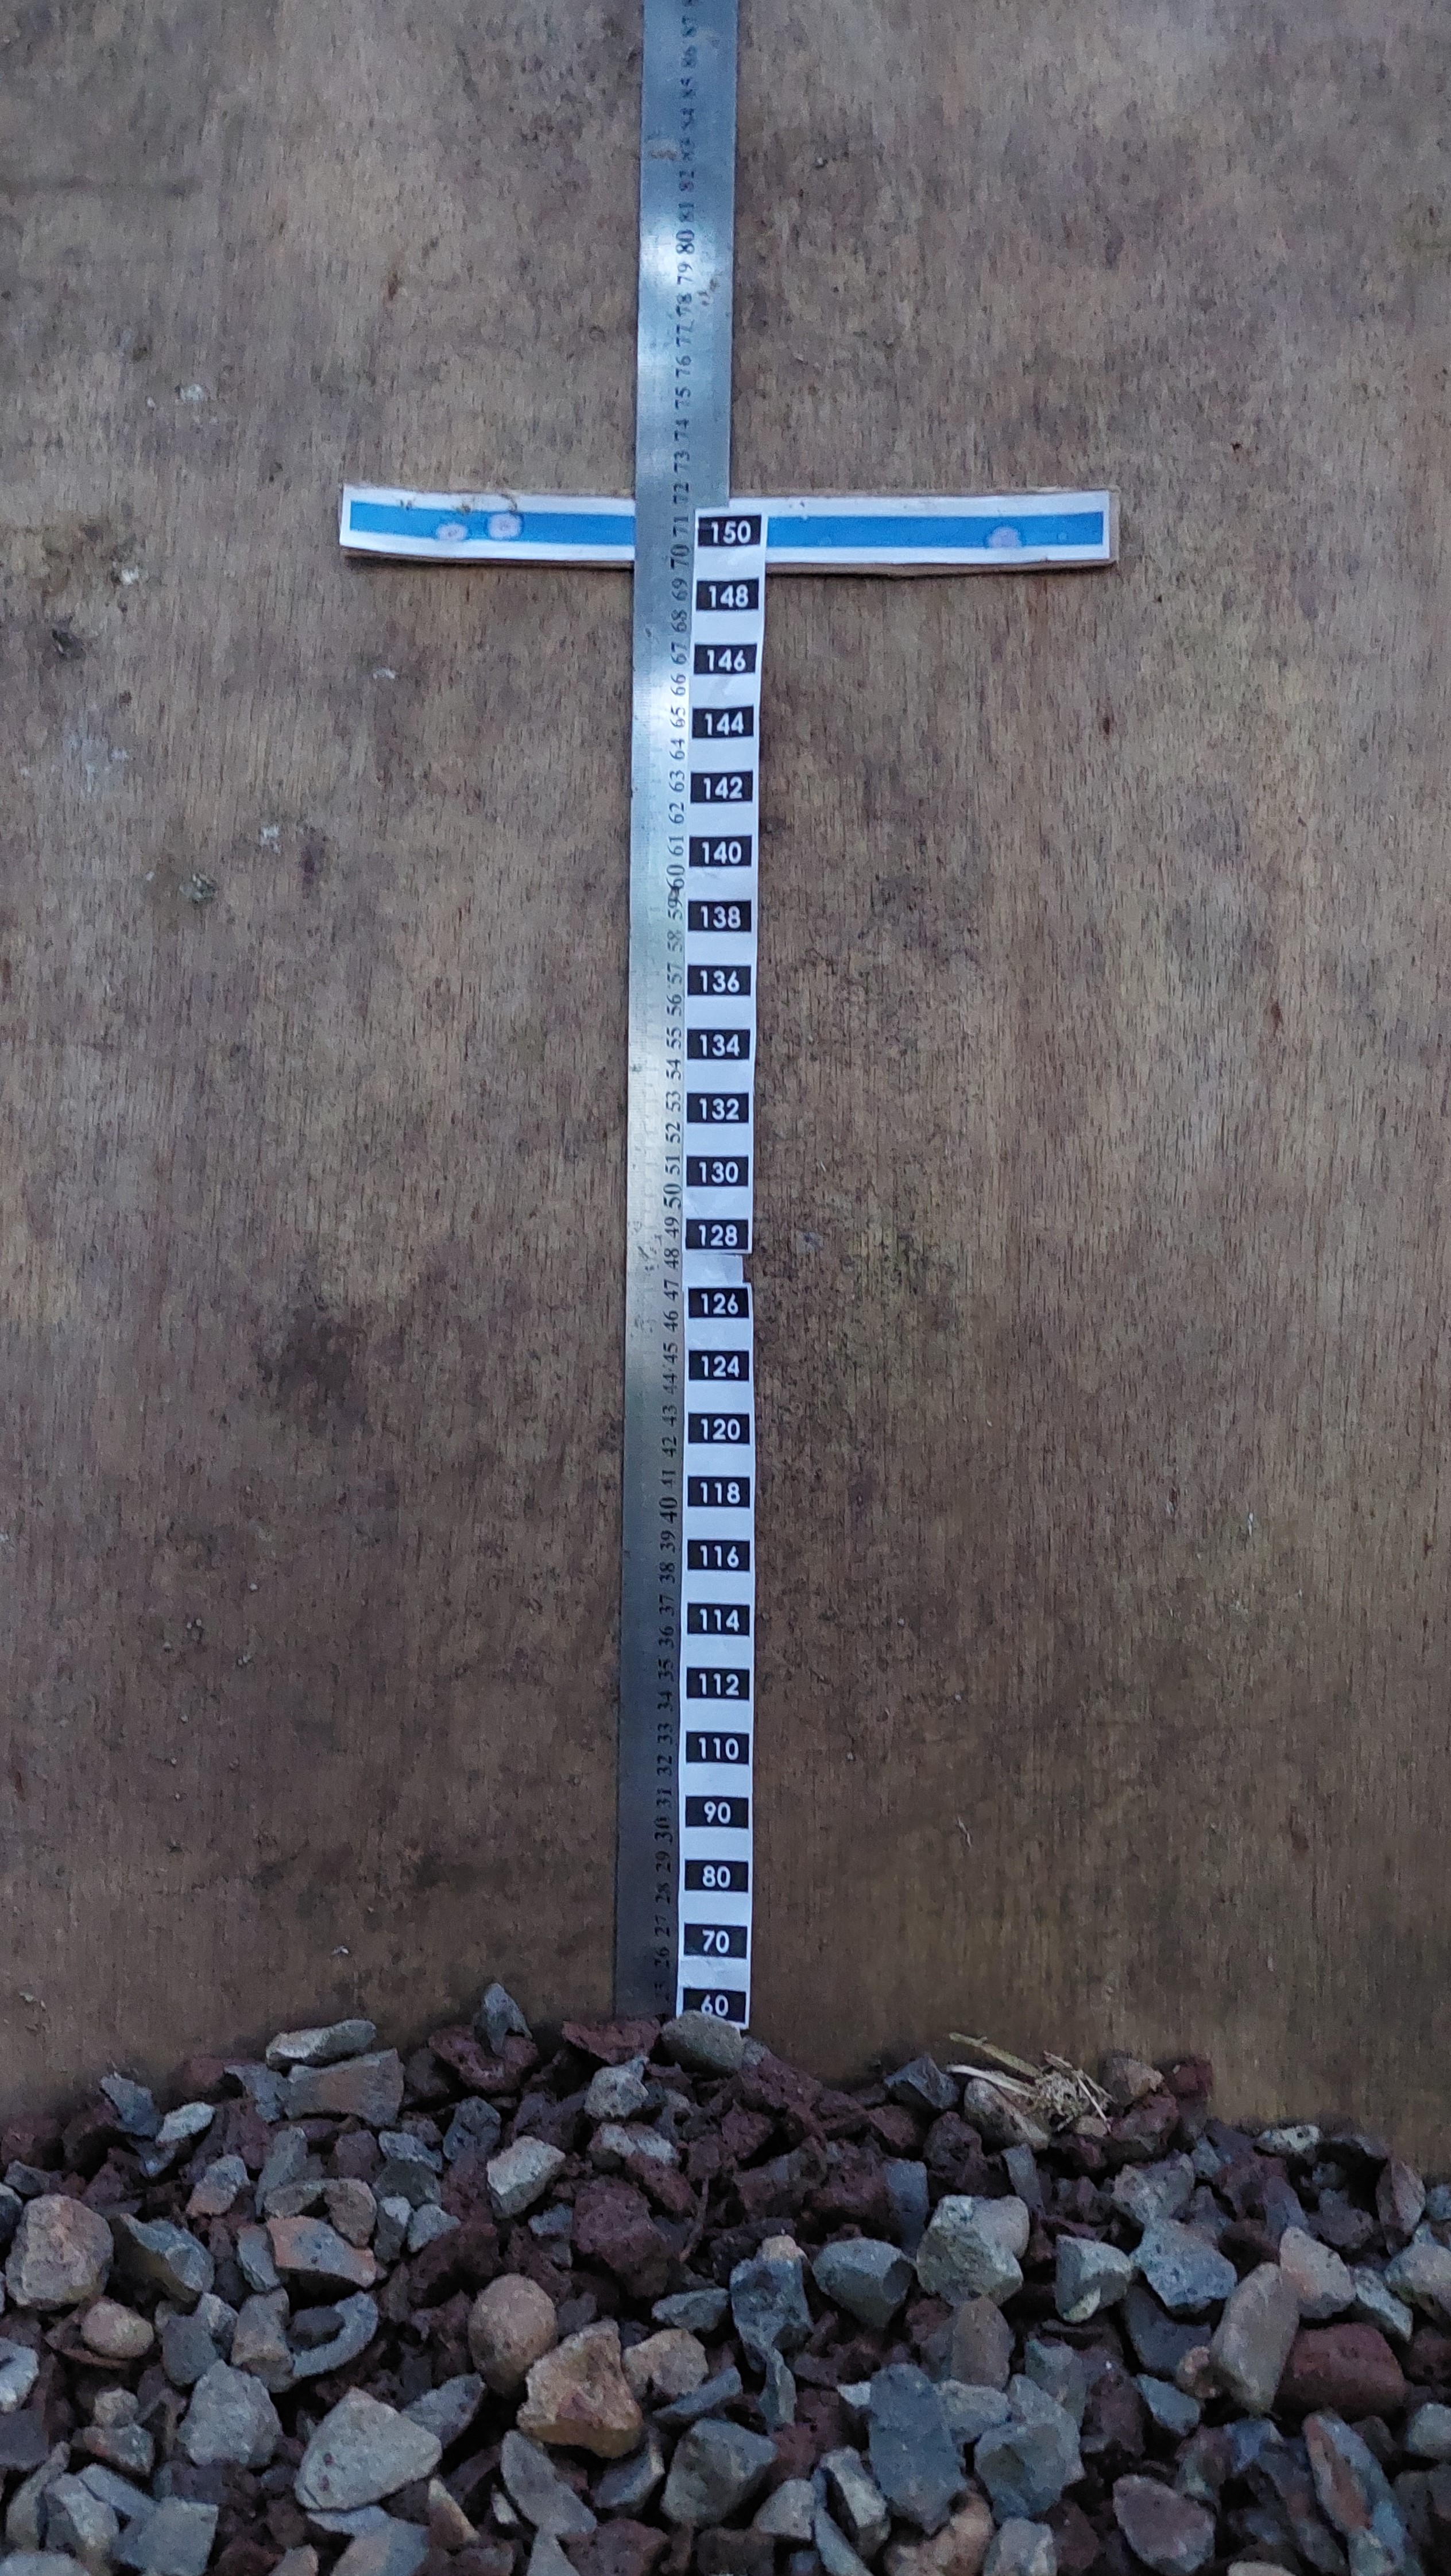kotak_2x1: (685, 1403, 756, 1447), (685, 893, 756, 936), (683, 1281, 754, 1322), (688, 766, 756, 809), (685, 961, 757, 1000), (683, 1150, 752, 1191), (683, 1214, 752, 1254), (685, 1345, 754, 1385), (681, 1856, 750, 1897), (685, 1024, 756, 1063), (683, 1088, 754, 1127), (687, 832, 756, 870), (685, 1536, 754, 1575), (683, 1729, 752, 1767), (681, 1921, 750, 1960), (692, 575, 763, 612), (685, 1472, 752, 1511), (685, 1599, 752, 1638), (683, 1663, 750, 1702), (683, 1792, 750, 1831), (692, 639, 759, 676), (690, 702, 757, 740), (697, 513, 764, 548)
mal_biru_150: (345, 488, 1109, 554)
